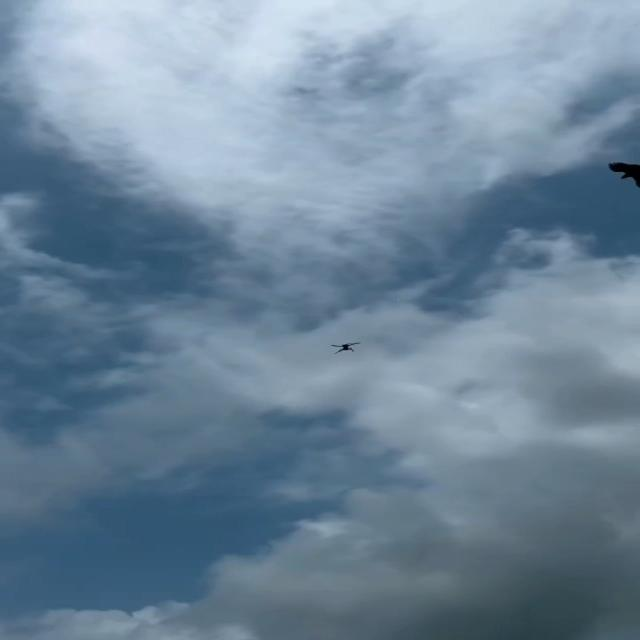bird: (598, 152, 640, 192)
drone: (330, 342, 360, 354)
